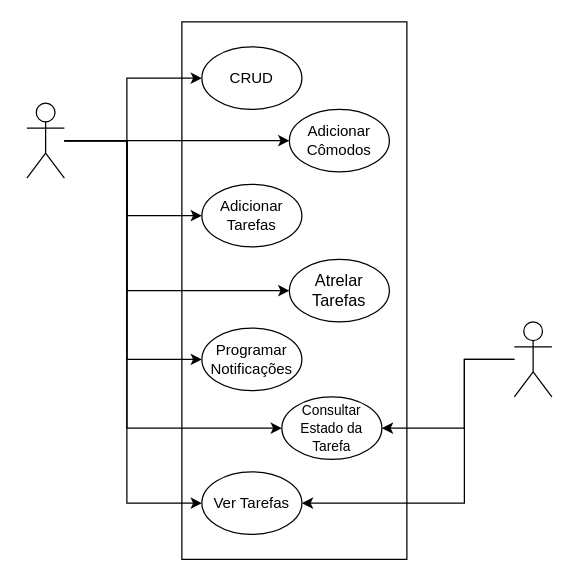
This 580x581 diagram has some shape labels left out. The centre of each missing label's shape, as x and y in pixels:
ADMIN: the point at 45,140
Usuário: the point at 532,359
